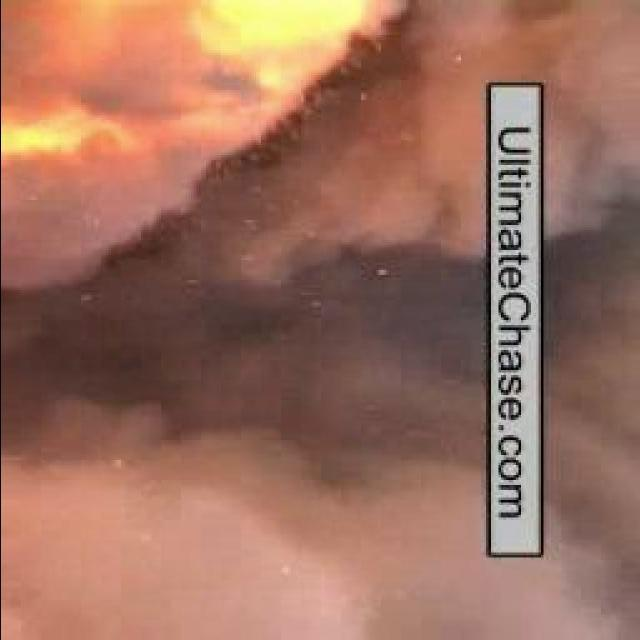Fire: (0, 0, 370, 162)
